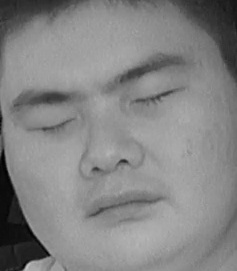blink: (127, 81, 185, 116), (24, 108, 77, 143)
mouth: (79, 183, 162, 229)
